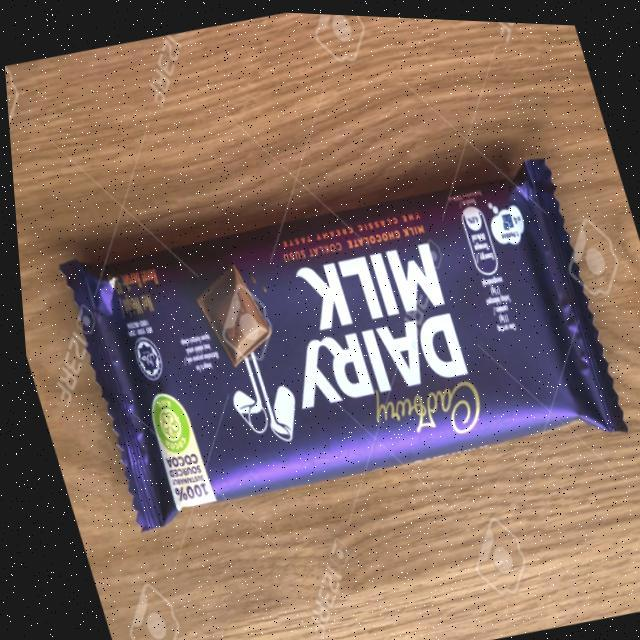cadbury_chocolate: (113, 155, 600, 522)
